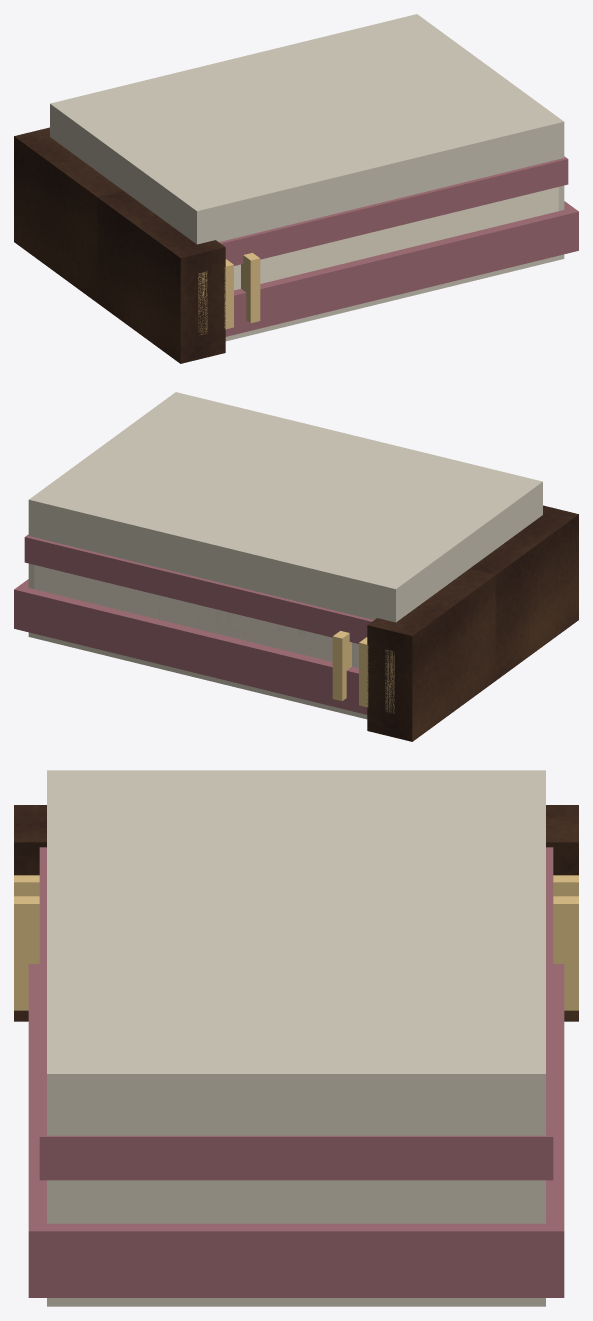
Rendered from buku_perjalanan_interaktif.glb.
3 renders of one model, top to bottom at view 1: azimuth 30°, elevation 25°; view 2: azimuth 150°, elevation 25°; view 3: azimuth 270°, elevation 25°, orthographic. The views are drawn at different scales.
Visible parts, largest first — view 1: HS_STORY_BOOK, STORY_BOOK_SPINE, STORY_BOOK_COVER, STORY_BOOK_TOP, STORY_BOOK_PAGES, STORY_BOOK_GOLD_RIDGE_2, STORY_BOOK_GOLD_RIDGE_1; view 2: HS_STORY_BOOK, STORY_BOOK_SPINE, STORY_BOOK_COVER, STORY_BOOK_TOP, STORY_BOOK_PAGES, STORY_BOOK_GOLD_RIDGE_2, STORY_BOOK_GOLD_RIDGE_1, STORY_BOOK_GOLD_RIDGE_0; view 3: HS_STORY_BOOK, STORY_BOOK_COVER, STORY_BOOK_TOP, STORY_BOOK_GOLD_RIDGE_2, STORY_BOOK_SPINE, STORY_BOOK_GOLD_RIDGE_1.
Part boxes in pixels (left/top/right/bottom): HS_STORY_BOOK: left=50, top=14, right=564, bottom=341; STORY_BOOK_SPINE: left=14, top=127, right=225, bottom=363; STORY_BOOK_COVER: left=225, top=201, right=578, bottom=336; STORY_BOOK_TOP: left=219, top=156, right=568, bottom=265; STORY_BOOK_PAGES: left=234, top=187, right=558, bottom=290; STORY_BOOK_GOLD_RIDGE_2: left=241, top=253, right=260, bottom=322; STORY_BOOK_GOLD_RIDGE_1: left=224, top=259, right=233, bottom=329; HS_STORY_BOOK: left=28, top=392, right=542, bottom=719; STORY_BOOK_SPINE: left=367, top=505, right=578, bottom=741; STORY_BOOK_COVER: left=14, top=579, right=367, bottom=714; STORY_BOOK_TOP: left=24, top=534, right=373, bottom=643; STORY_BOOK_PAGES: left=34, top=565, right=358, bottom=668; STORY_BOOK_GOLD_RIDGE_2: left=332, top=631, right=351, bottom=700; STORY_BOOK_GOLD_RIDGE_1: left=359, top=637, right=368, bottom=707; STORY_BOOK_GOLD_RIDGE_0: left=385, top=649, right=394, bottom=713; HS_STORY_BOOK: left=47, top=770, right=545, bottom=1306; STORY_BOOK_COVER: left=28, top=964, right=564, bottom=1297; STORY_BOOK_TOP: left=39, top=847, right=553, bottom=1180; STORY_BOOK_GOLD_RIDGE_2: left=14, top=896, right=578, bottom=1010; STORY_BOOK_SPINE: left=14, top=805, right=578, bottom=1021; STORY_BOOK_GOLD_RIDGE_1: left=14, top=875, right=578, bottom=896.
Size of the model in its own units: 1.07 by 0.355 by 0.77.
Materials: 5 (1 with a texture image).
